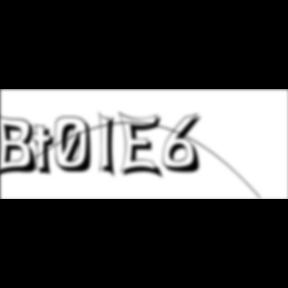0: (54, 115, 100, 174)
6: (162, 112, 208, 176)
B: (1, 111, 44, 179)
E: (119, 110, 168, 182)
I: (99, 110, 123, 182)
t: (32, 124, 62, 179)
